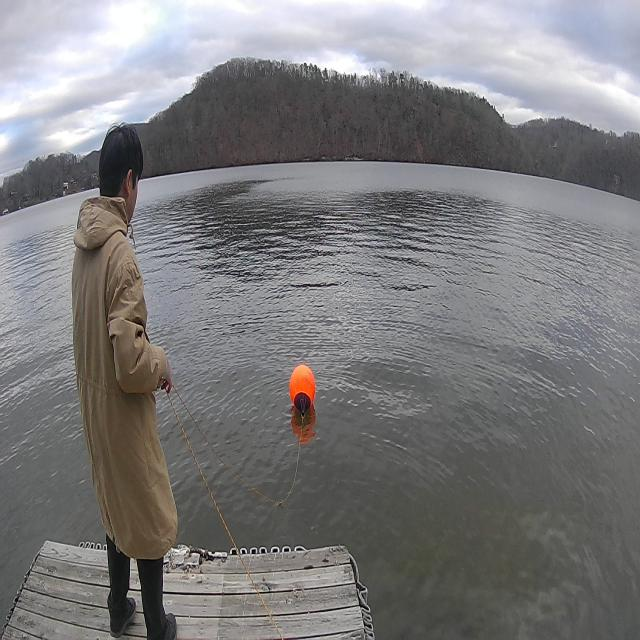Buoy: (288, 361, 320, 420)
